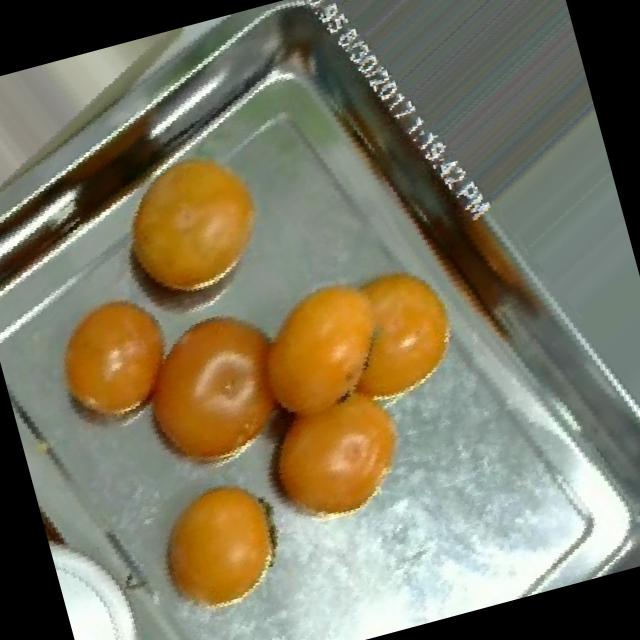Fruit: (81, 266, 338, 508), (243, 217, 497, 448), (77, 119, 302, 330), (209, 352, 441, 556), (17, 260, 212, 457), (120, 450, 315, 640)
